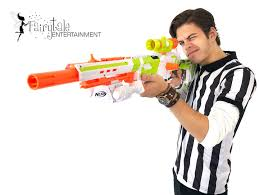gun: (24, 38, 194, 104)
